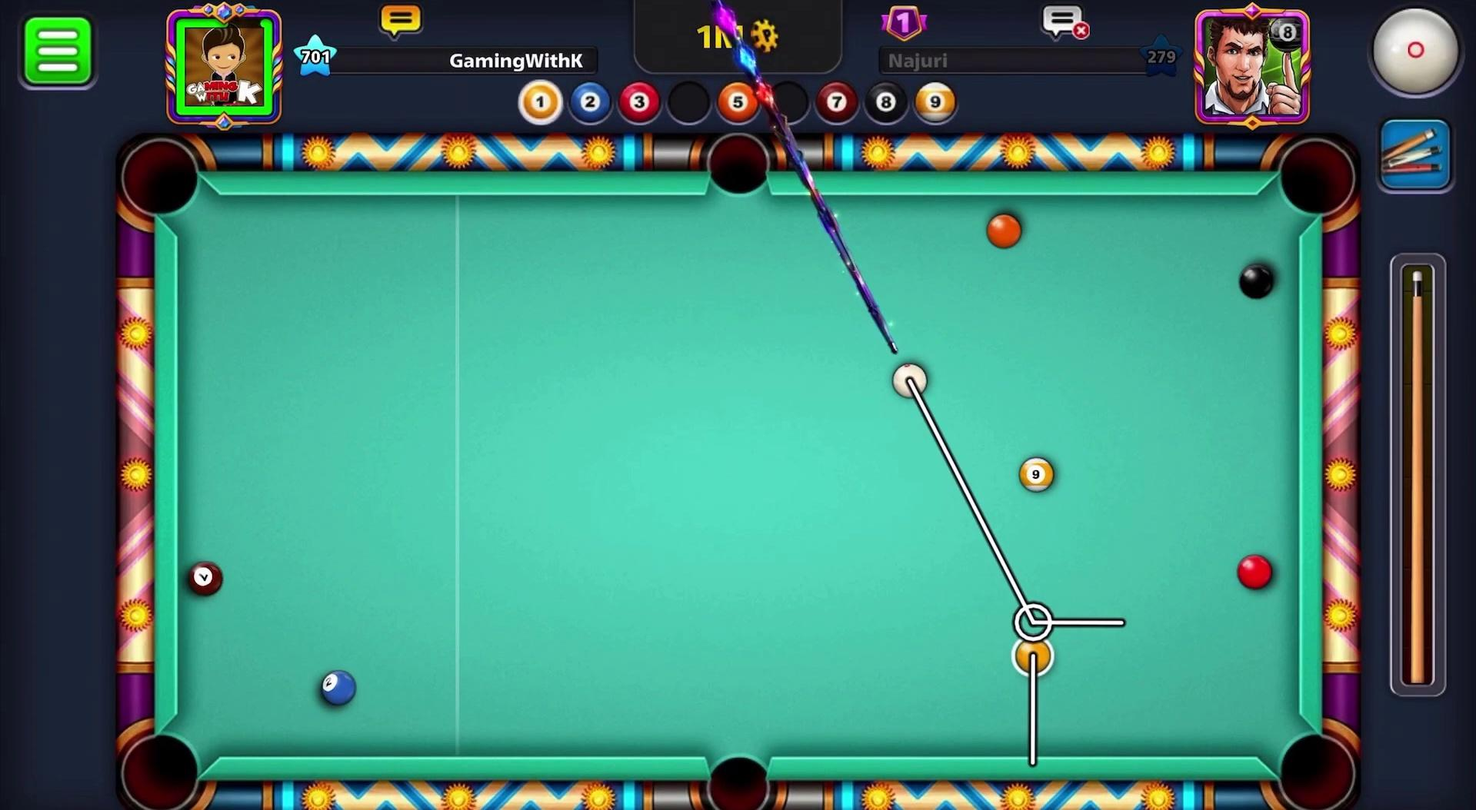Ball: (1011, 450, 1061, 498), (981, 209, 1027, 253), (1234, 548, 1278, 594), (1011, 633, 1052, 681), (1237, 257, 1278, 303), (184, 558, 224, 597), (317, 668, 355, 705)
Force: (1388, 251, 1451, 700)
Guideline: (901, 379, 1131, 770)
Hole: (107, 128, 213, 231), (108, 712, 219, 809), (1268, 130, 1364, 232), (1269, 726, 1361, 808), (692, 126, 782, 208), (688, 741, 785, 809)
Play_Area: (177, 195, 1294, 761)
Spin: (1346, 0, 1475, 114)
White: (885, 352, 935, 403)
